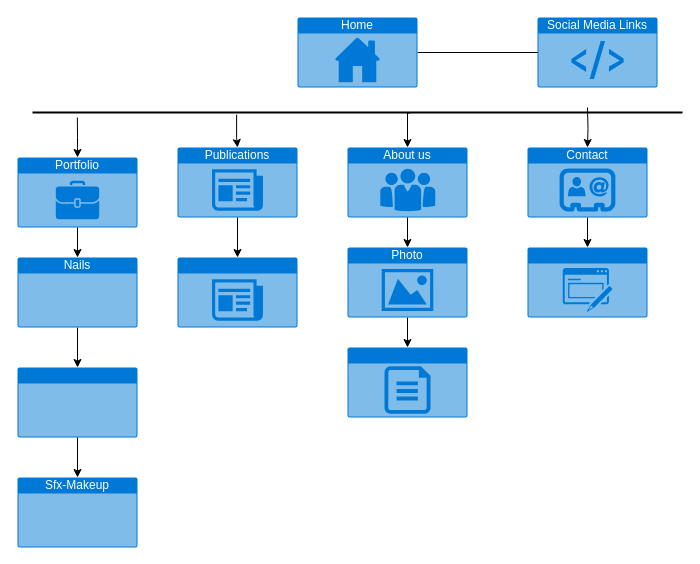
This 700x564 diagram has some shape labels left out. Each missing label, with the centre of its shape:
Form: the point at 587,282
Makeup: the point at 77,402
News: the point at 237,292
Text: the point at 407,382
